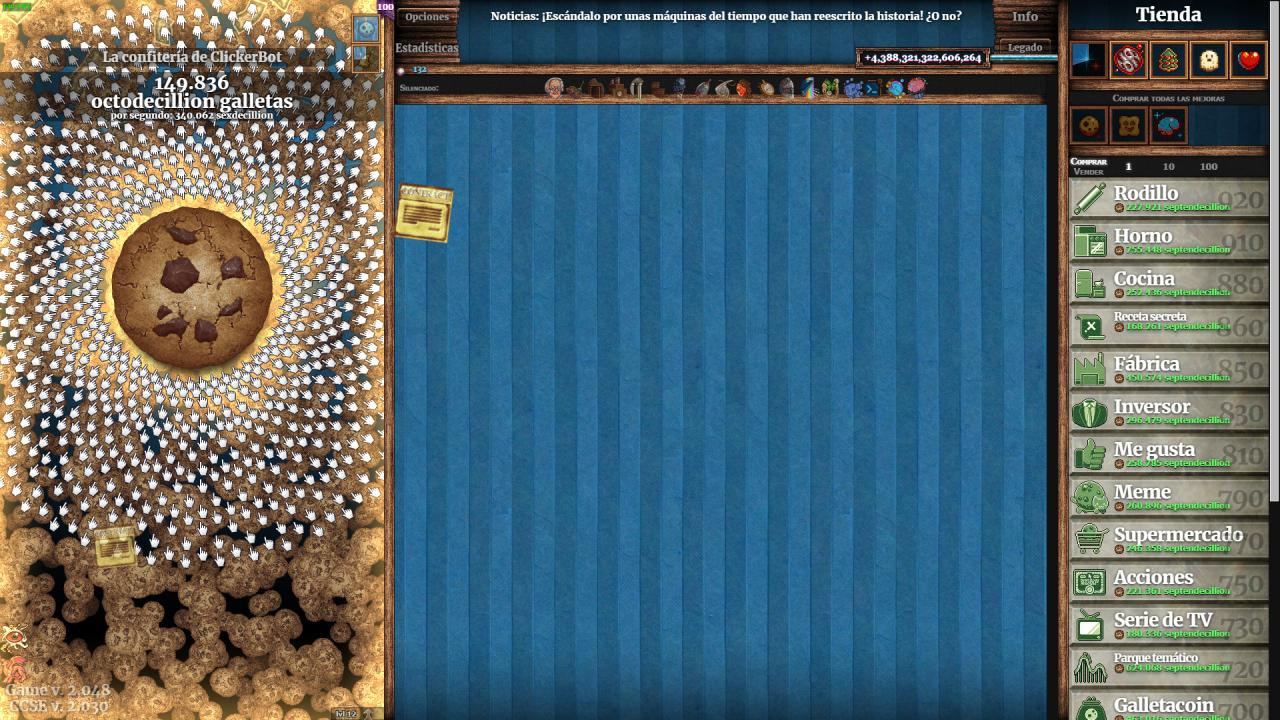GoldenCartridge: (392, 181, 456, 246), (93, 523, 140, 570)
